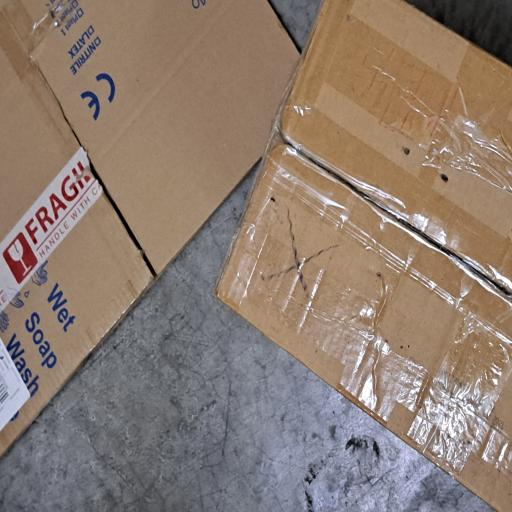cardboard: (39, 0, 384, 400), (0, 291, 384, 512)
